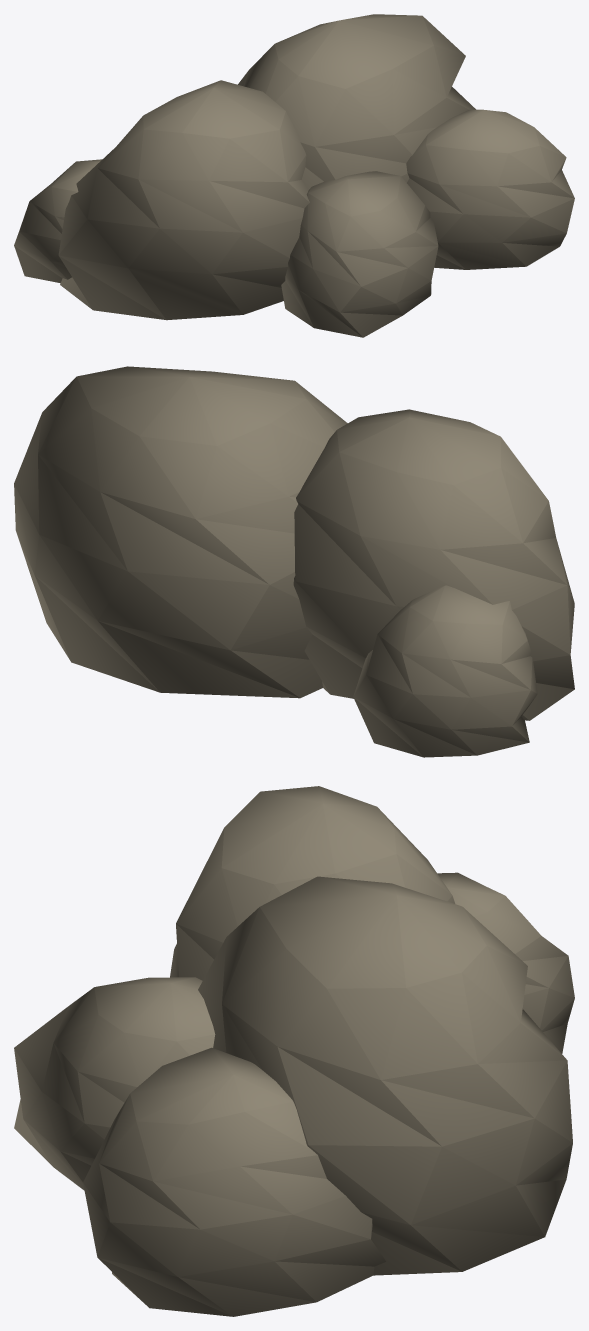
Rendered from rock-cluster-v1.glb.
3 views of the same model, one above another, from view 1: azimuth 30°, elevation 25°; view 2: azimuth 150°, elevation 25°; view 3: azimuth 270°, elevation 25° (orthographic). The views are drawn at different scales.
Visible parts, largest first — view 1: rock-cluster-v1; view 2: rock-cluster-v1; view 3: rock-cluster-v1.
Boxes of the visible parts, <box> form: rock-cluster-v1: <box>14,14,574,337</box>; rock-cluster-v1: <box>14,366,574,757</box>; rock-cluster-v1: <box>14,786,574,1316</box>.
Size of the model in its own units: 2.88 by 1.22 by 2.01.
